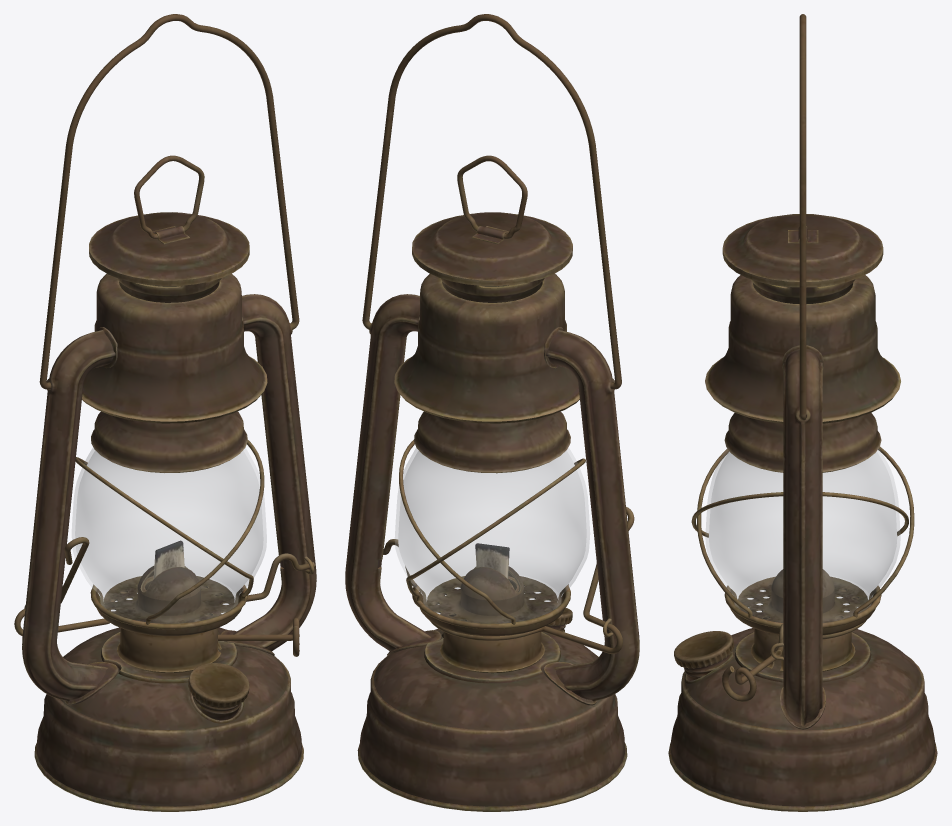
The model's file is Lantern_01.glb.
3 renders of one model, left to right at view 1: azimuth 30°, elevation 25°; view 2: azimuth 150°, elevation 25°; view 3: azimuth 270°, elevation 25°, orthographic.
Parts seen in each view (by area): view 1: Lantern_01, Lantern_01_glass; view 2: Lantern_01, Lantern_01_glass; view 3: Lantern_01, Lantern_01_glass.
Boxes of the visible parts, x1,y1,x2,y2 form: Lantern_01: (14,14,316,811); Lantern_01_glass: (72,447,266,623); Lantern_01: (345,14,639,811); Lantern_01_glass: (395,447,589,623); Lantern_01: (668,14,937,811); Lantern_01_glass: (705,449,900,622).
Size of the model in its own units: 0.1221 by 0.2942 by 0.0972.
Materials: 2 (1 with a texture image).
